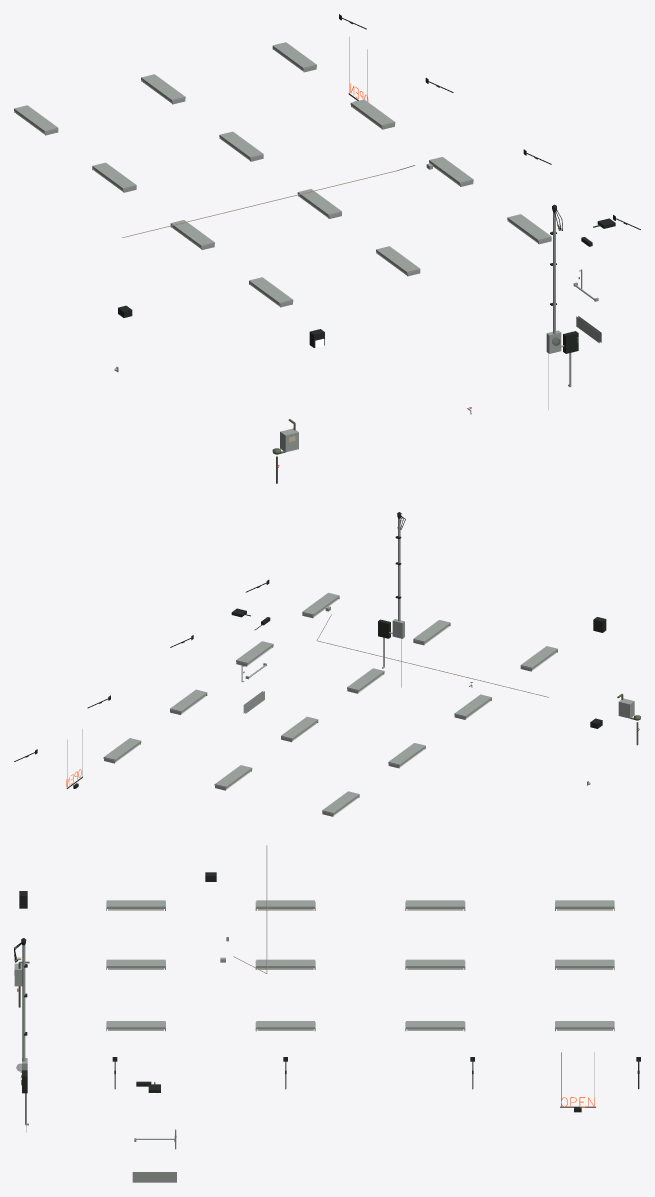
Rendered from SM_Town_Laundry_Fixtures.fbx.
3 views of the same model, one above another, from view 1: azimuth 30°, elevation 25°; view 2: azimuth 150°, elevation 25°; view 3: azimuth 270°, elevation 25° (orthographic). The views are drawn at different scales.
Visible parts, largest first — view 1: SM_Town_Laundry_Fixtures; view 2: SM_Town_Laundry_Fixtures; view 3: SM_Town_Laundry_Fixtures.
Boxes of the visible parts, box(x1,y1,x2,y2) form: SM_Town_Laundry_Fixtures: box(14, 14, 640, 483); SM_Town_Laundry_Fixtures: box(14, 512, 640, 816); SM_Town_Laundry_Fixtures: box(14, 845, 640, 1182).
Size of the model in its own units: 11.09 by 13.41 by 4.7.
